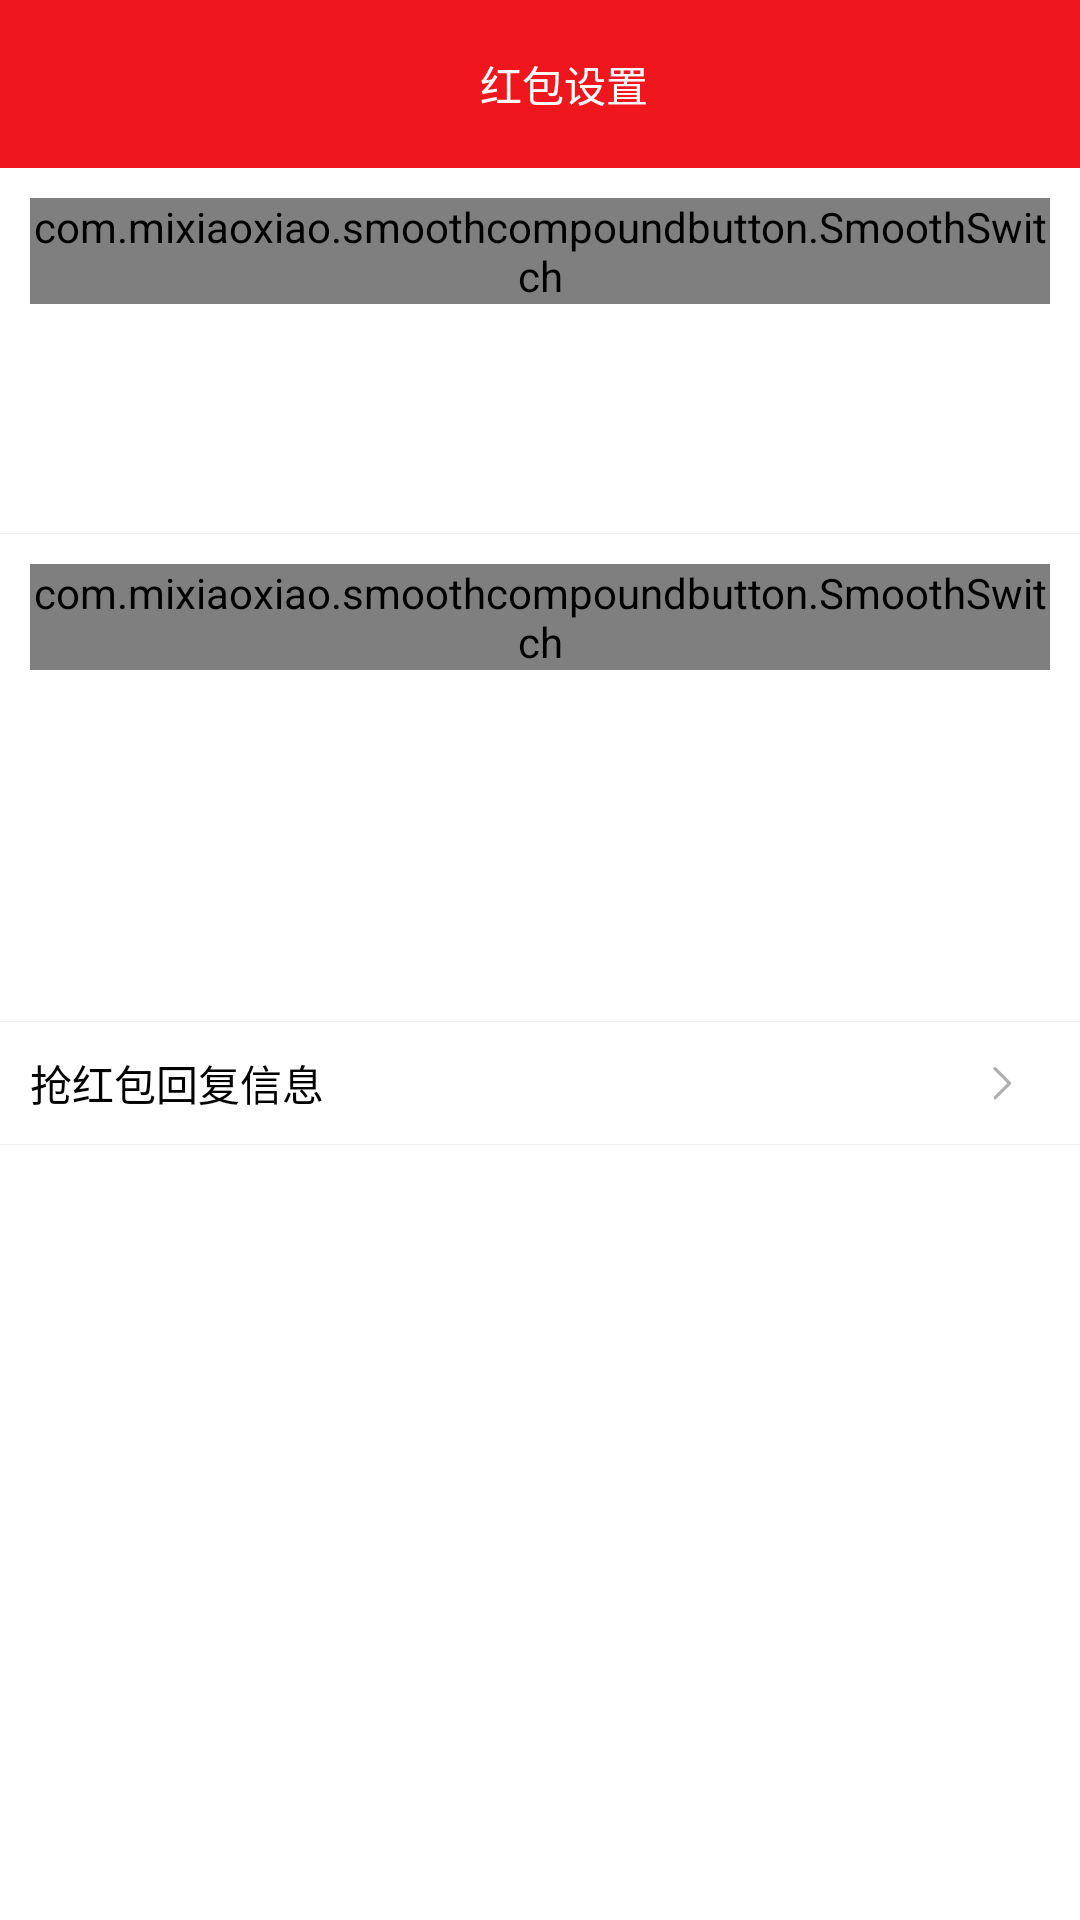

Icons on this 1080 × 1920 Android screen, each with its box as [x1,y1,x2,y2]:
right: [993,1067,1011,1099]
